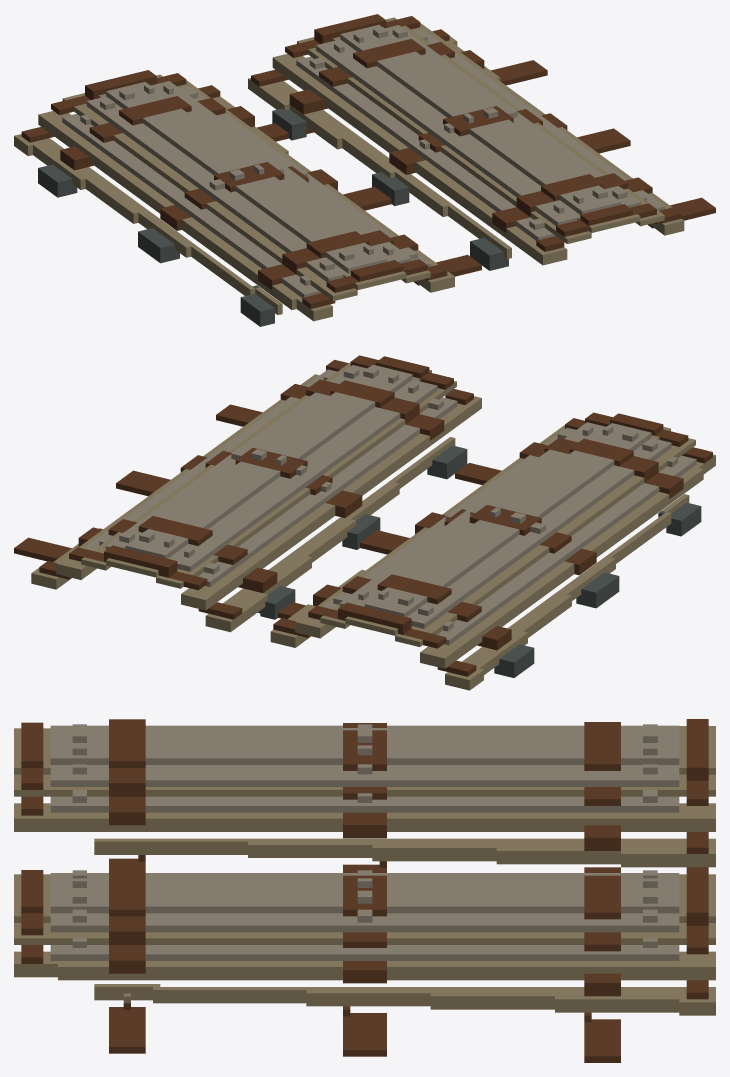
Rendered from qt_greaves_brigandine.glb.
The picture shows the model from 3 angles, top to bottom: view 1: azimuth 30°, elevation 25°; view 2: azimuth 150°, elevation 25°; view 3: azimuth 270°, elevation 25°; orthographic projection. The views are drawn at different scales.
Visible parts, largest first — view 1: qt_greaves_brigandine:compound; view 2: qt_greaves_brigandine:compound; view 3: qt_greaves_brigandine:compound.
Part boxes in pixels (x1,y1,x2,y2): qt_greaves_brigandine:compound: [14, 14, 715, 326]; qt_greaves_brigandine:compound: [14, 355, 715, 690]; qt_greaves_brigandine:compound: [14, 719, 715, 1062].
Bounding box in the file's own units: 0.404 × 0.048 × 0.384.
